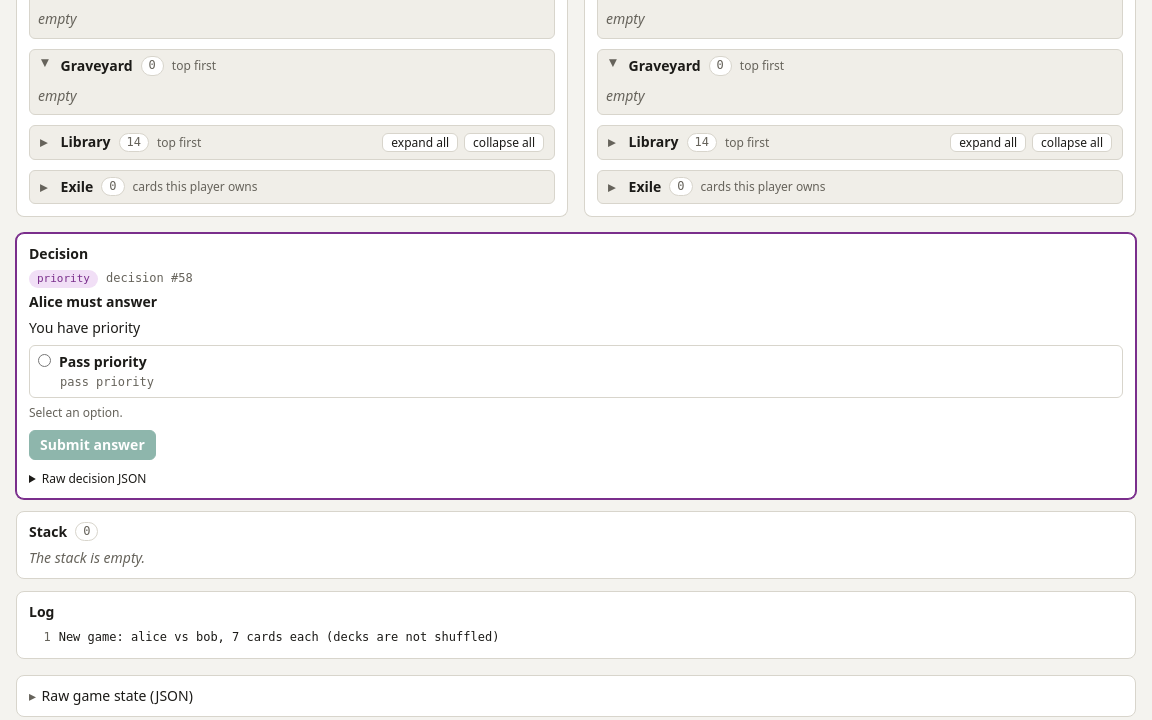
Test: decision panel › a priority decision is answered by selecting an option and submitting
This screenshot has width=1152, height=720.
(page scrolled)
Check: the text "Alice must answer" is shown, box [29,292,157,311]
Check: the button "Submit answer" is disabled, box [29,430,156,460]
Click the radio button labelled "Pass priority pass priority" at (44, 360), box [38,354,51,367]
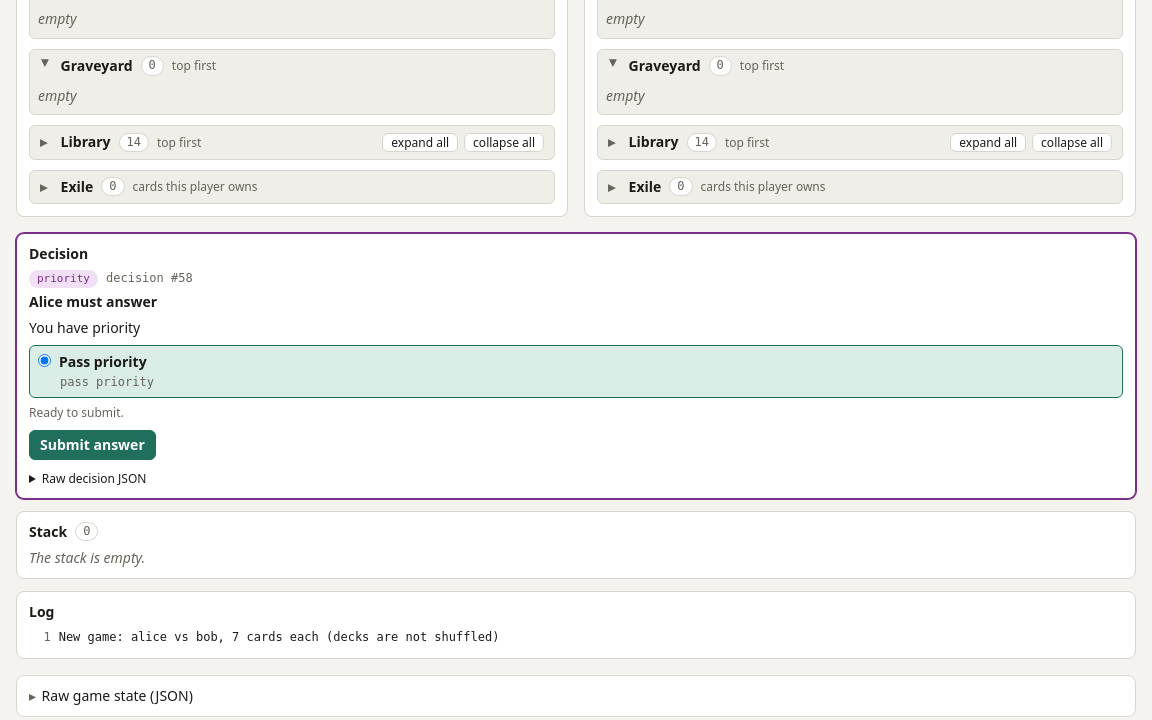
Check: the button "Submit answer" is enabled
Click the button "Submit answer" at (92, 445), box [29,430,156,460]
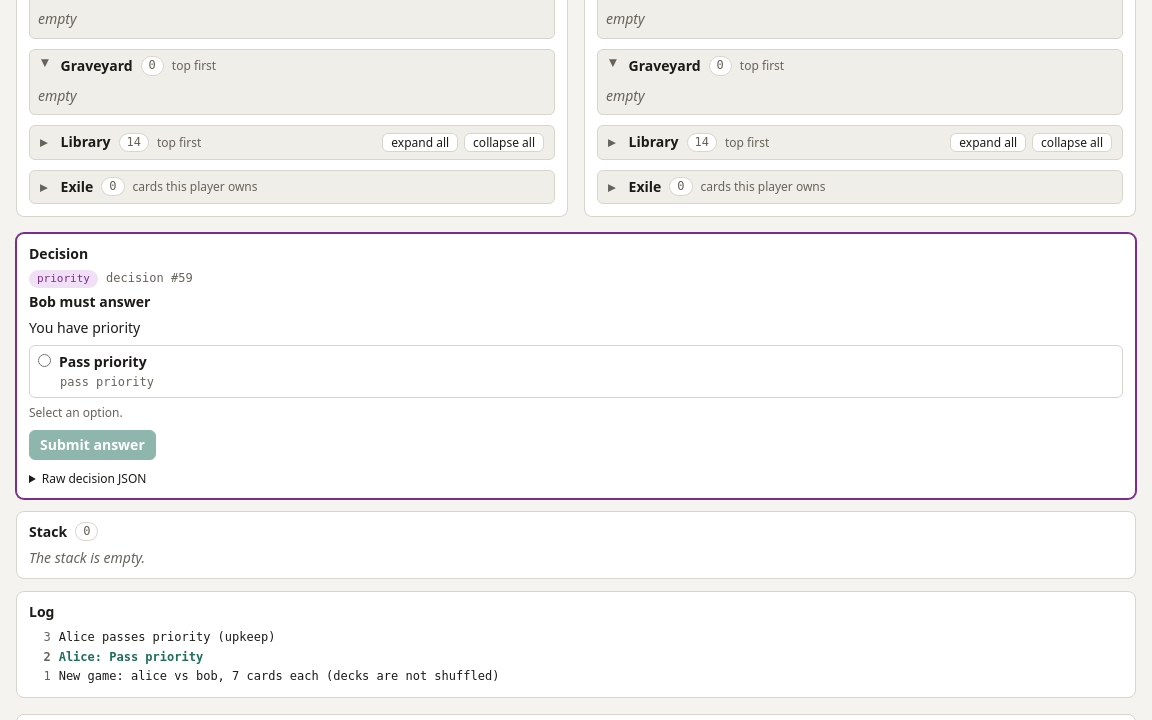
Check: the text "Bob must answer" is shown, box [29,292,150,311]
Check: the button "Submit answer" is disabled, box [29,430,156,460]
Check: the text "Alice: Pass priority" is shown, box [59,649,203,666]
